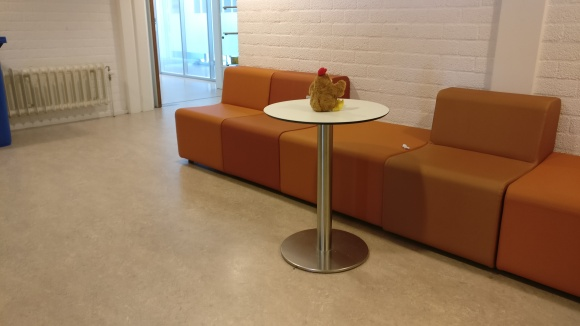chicken: (307, 66, 347, 113)
